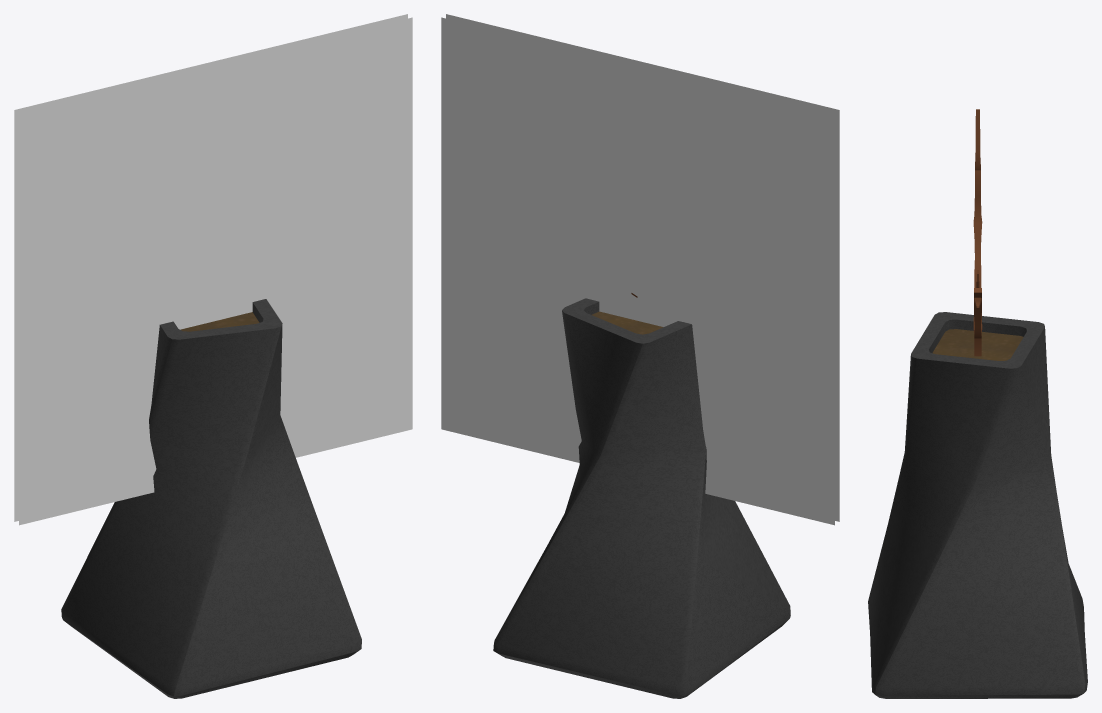
File: modern vase.fbx
3 renders of one model, left to right at view 1: azimuth 30°, elevation 25°; view 2: azimuth 150°, elevation 25°; view 3: azimuth 270°, elevation 25°, orthographic. The views are drawn at different scales.
Visible parts, largest first — view 1: modern vase; view 2: modern vase; view 3: modern vase.
Part boxes in pixels (x1,y1,x2,y2): modern vase: (14,14,412,698); modern vase: (441,14,839,698); modern vase: (868,109,1087,698).
Size of the model in its own units: 36.16 by 50.69 by 18.28.
Materials: 4 (3 with a texture image).
